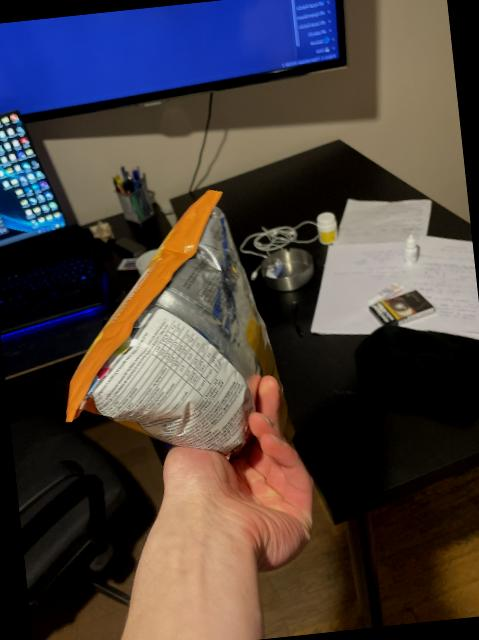Chio Cascaval 125g: (42, 184, 286, 473)
